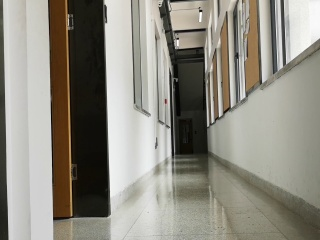room: (44, 1, 115, 226)
